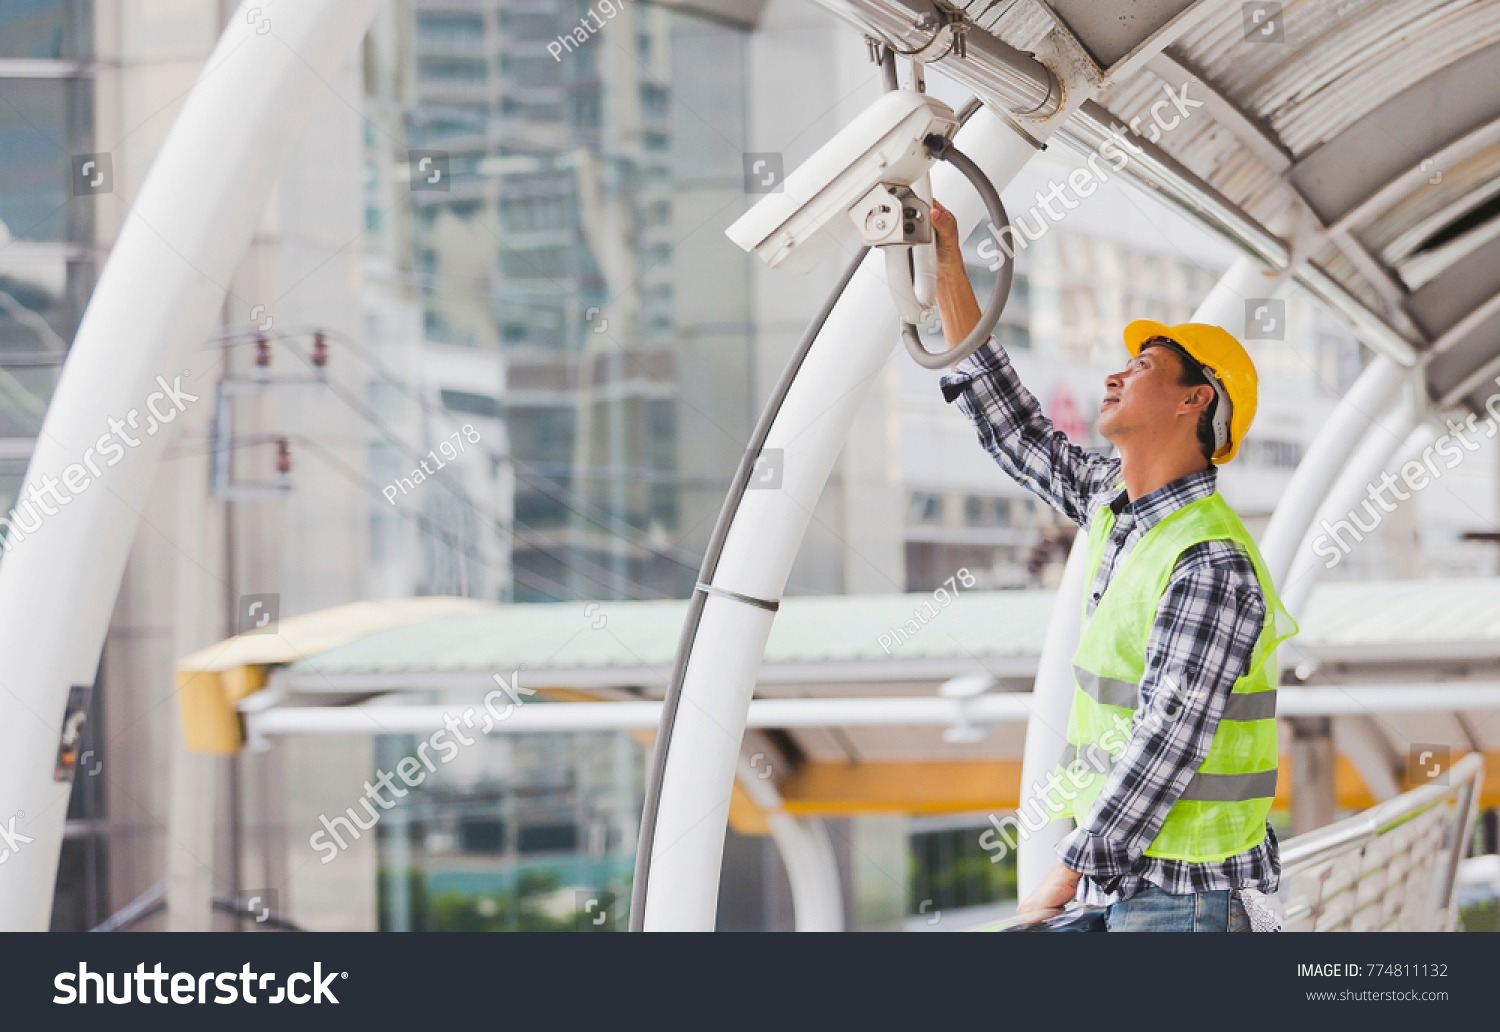helmet: (1161, 319, 1265, 434)
vest: (1068, 525, 1279, 863)
